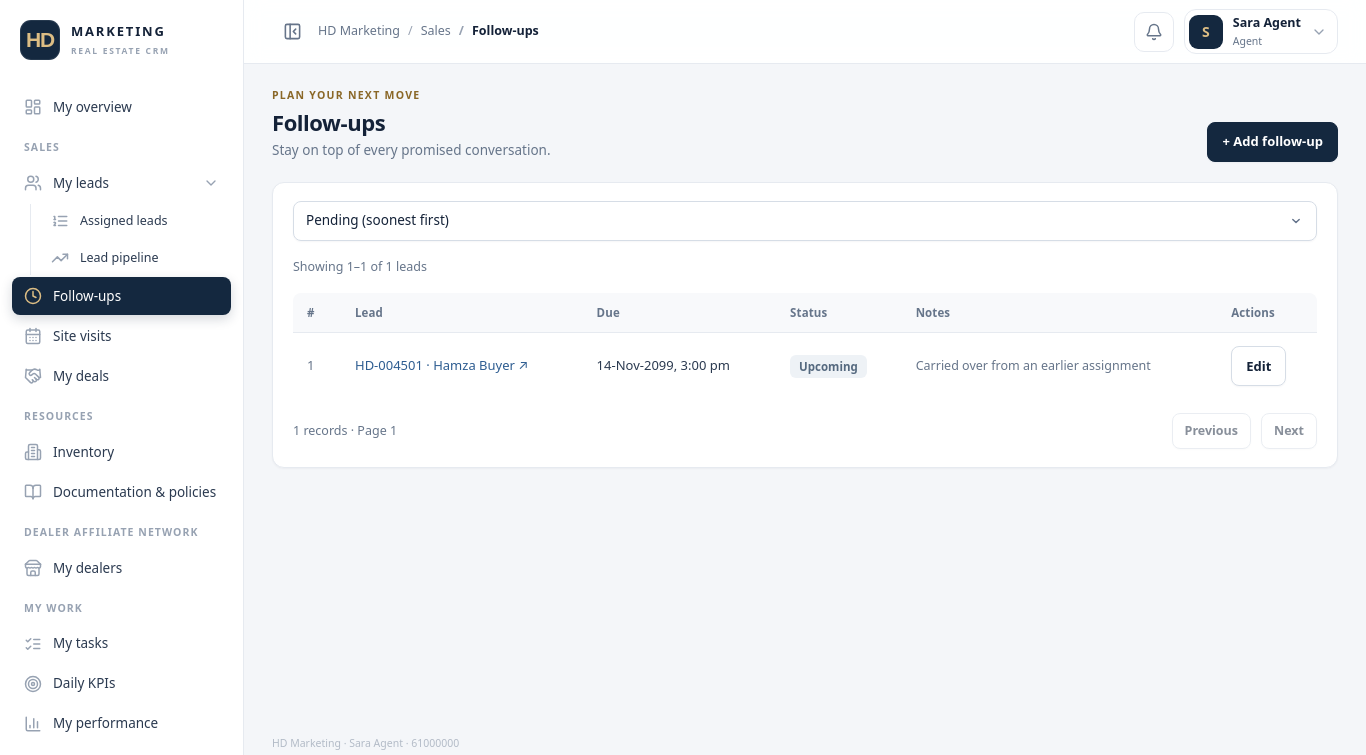
Test: a reassigned lead for its new agent › lists carried-over follow-ups without earlier comments, and edits them without a notes field
Check: the text "Carried over from an earlier assignment" is shown, box [916, 357, 1151, 374]
Step 1. Click the button "Edit" → coordinates (1259, 366), box [1231, 346, 1286, 386]
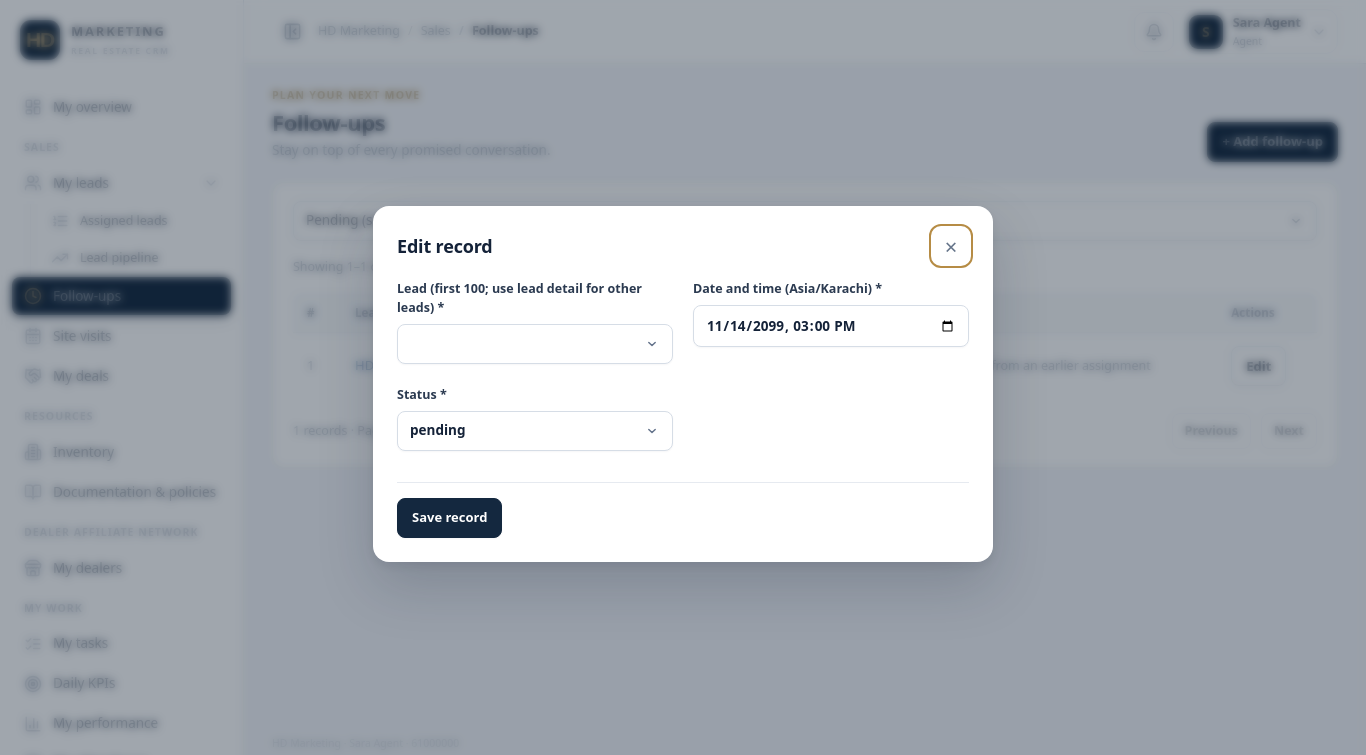
Check: the dropdown labelled "Status *" is shown, box [397, 411, 673, 451]
